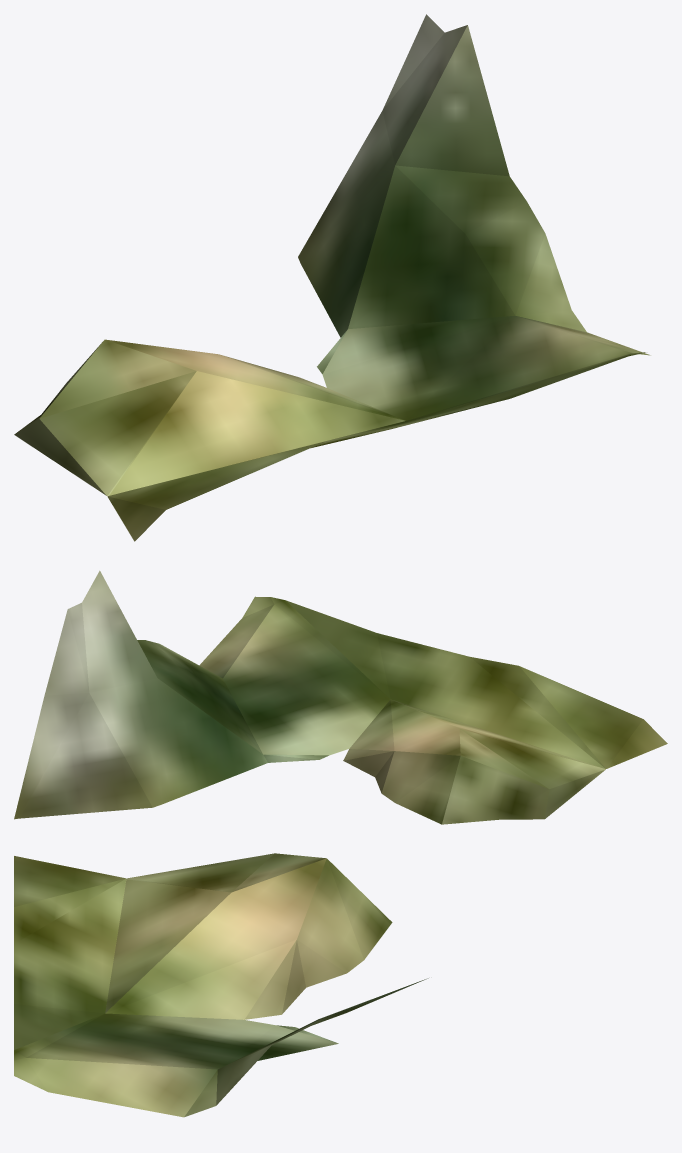
3 renders of one model, top to bottom at view 1: azimuth 30°, elevation 25°; view 2: azimuth 150°, elevation 25°; view 3: azimuth 270°, elevation 25°, orthographic. The views are drawn at different scales.
Size of the model in its own units: 0.2549 by 0.1097 by 0.2574.
Materials: 1 (1 with a texture image).
